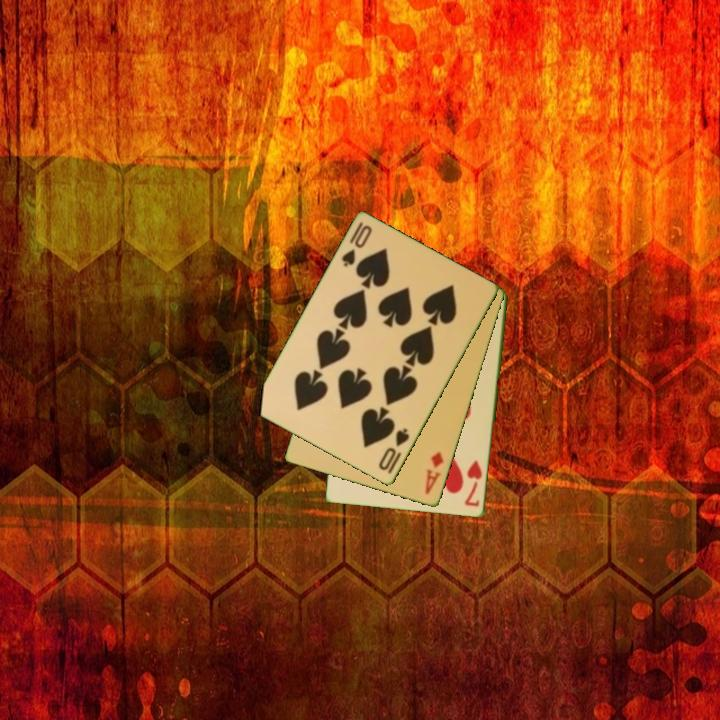10s: (338, 219, 375, 270), (375, 424, 412, 474)
7h: (462, 457, 485, 510)
Ad: (422, 449, 446, 498)
